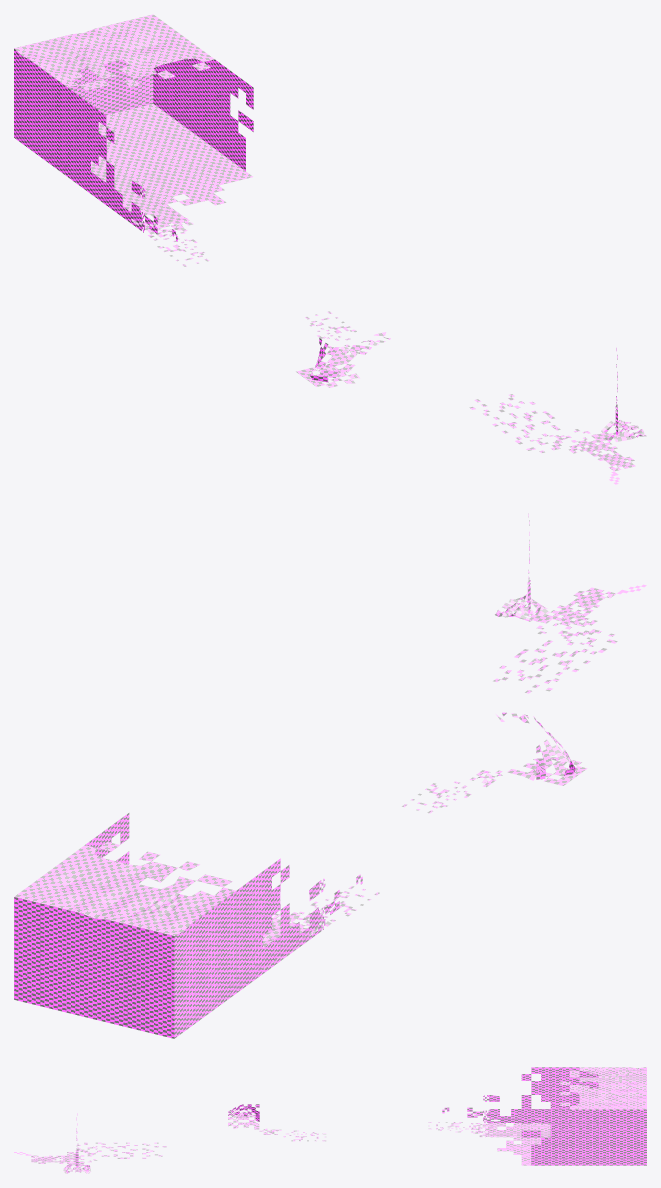
Rendered from Top.glb.
The picture shows the model from 3 angles, top to bottom: view 1: azimuth 30°, elevation 25°; view 2: azimuth 150°, elevation 25°; view 3: azimuth 270°, elevation 25°; orthographic projection. The views are drawn at different scales.
Parts seen in each view (by area): view 1: Plane; view 2: Plane; view 3: Plane.
Boxes of the visible parts, bbox=[...] form: Plane: bbox=[14, 14, 646, 484]; Plane: bbox=[14, 513, 646, 1038]; Plane: bbox=[14, 1067, 646, 1173].
Bounding box in the file's own units: 5.6 × 2.5 × 25.01.
